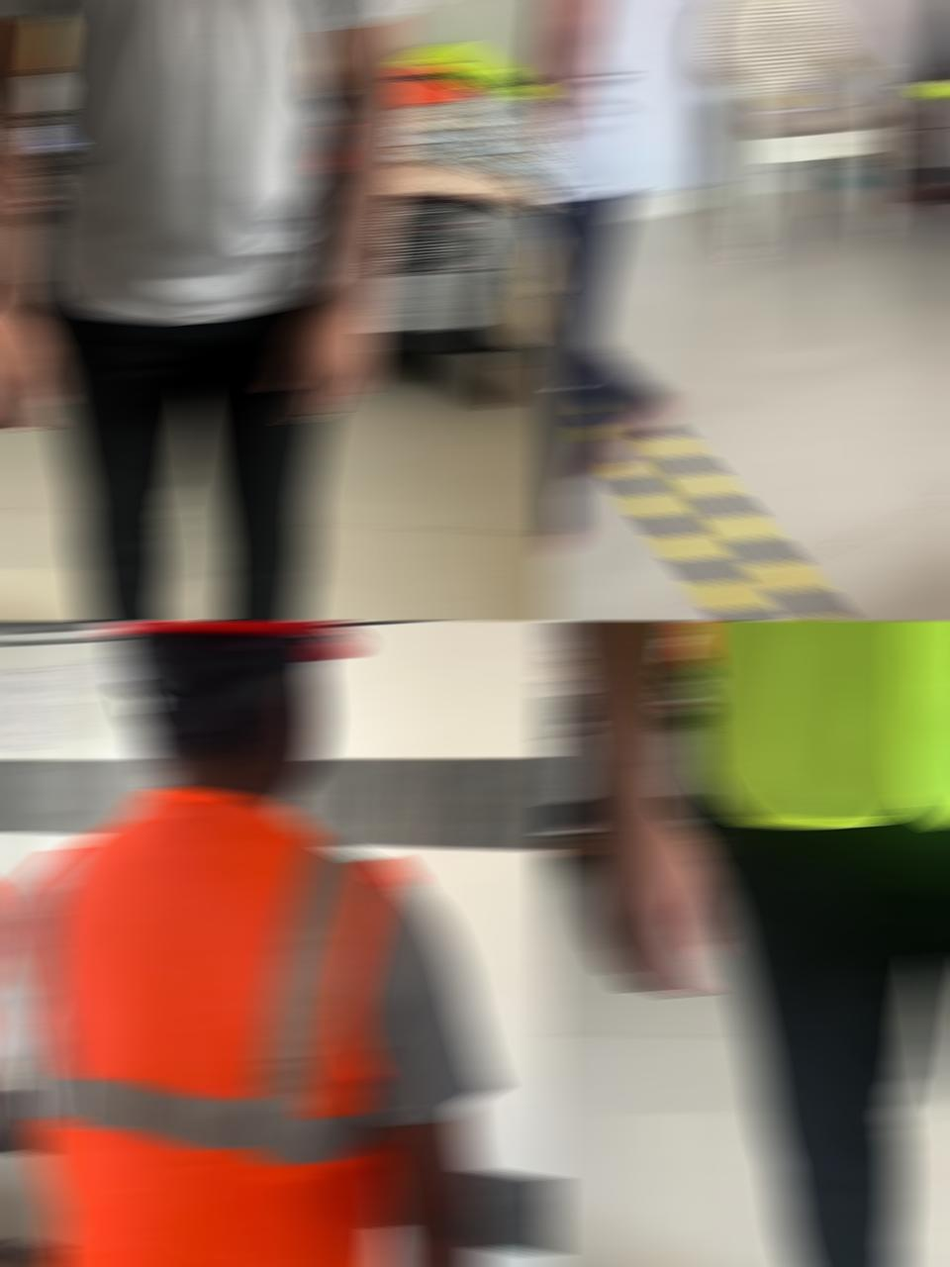BorderLine: (574, 408, 848, 620)
Helmet: (93, 621, 362, 659)
No_Vest: (0, 0, 439, 324)
Person: (0, 621, 496, 1266), (0, 0, 440, 620), (541, 621, 950, 1266), (542, 0, 679, 599)
Vest: (0, 785, 415, 1266), (635, 621, 950, 839)
